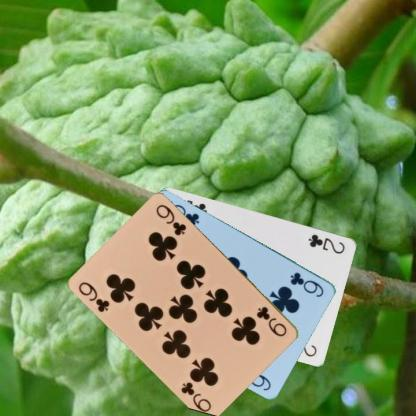2c: (306, 231, 346, 256)
6c: (288, 269, 326, 299)
9c: (76, 279, 112, 314), (254, 304, 288, 338)
